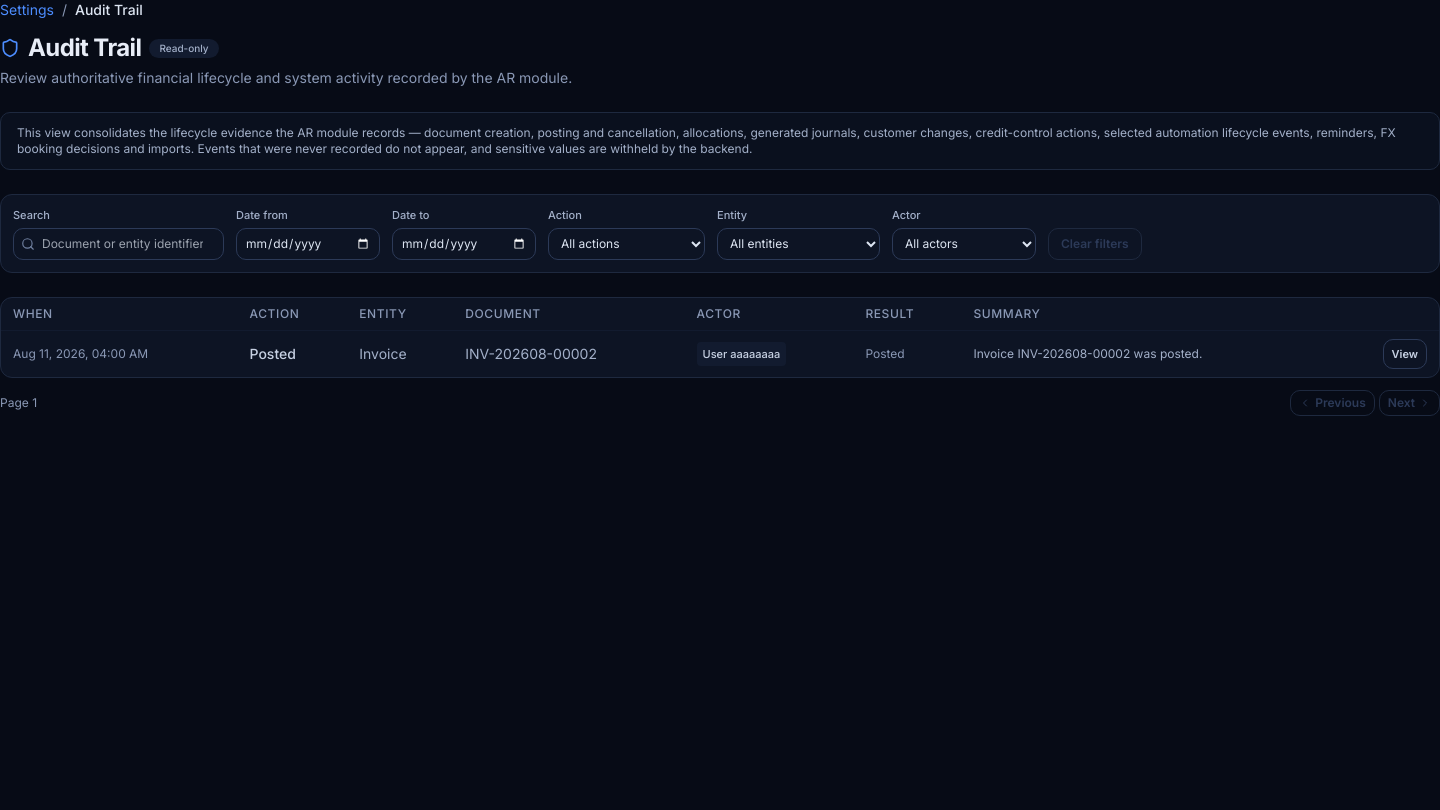
it: Audit actor and metadata safety › renders allow-listed metadata
Expected: the text "Invoice INV-202608-00002 was posted." is shown, [962,330,1337,376]
Click the button "View". click: (1405, 354)
box: [1382,338,1427,368]
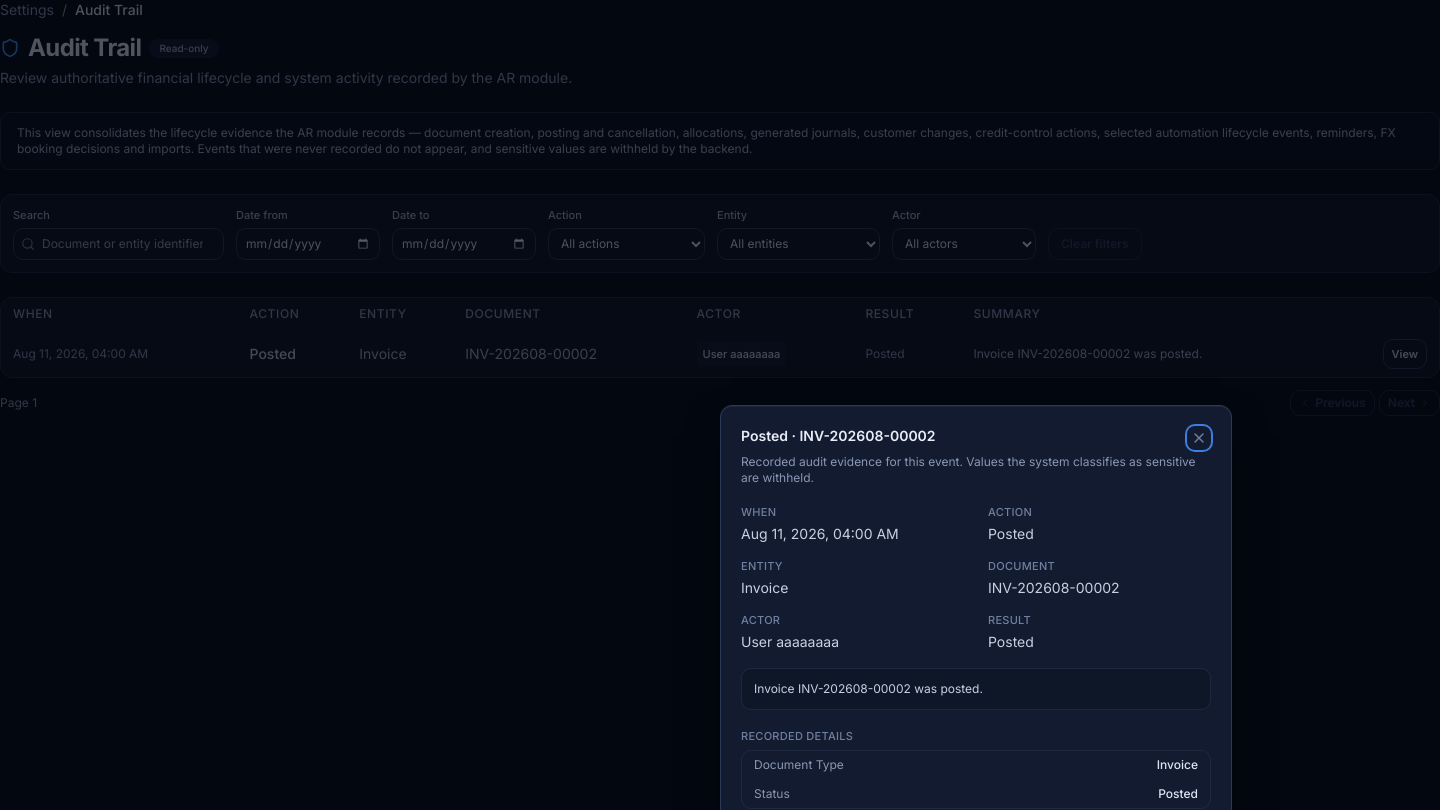
Now the text "Document Type" is shown, box [754,757,844,773]
